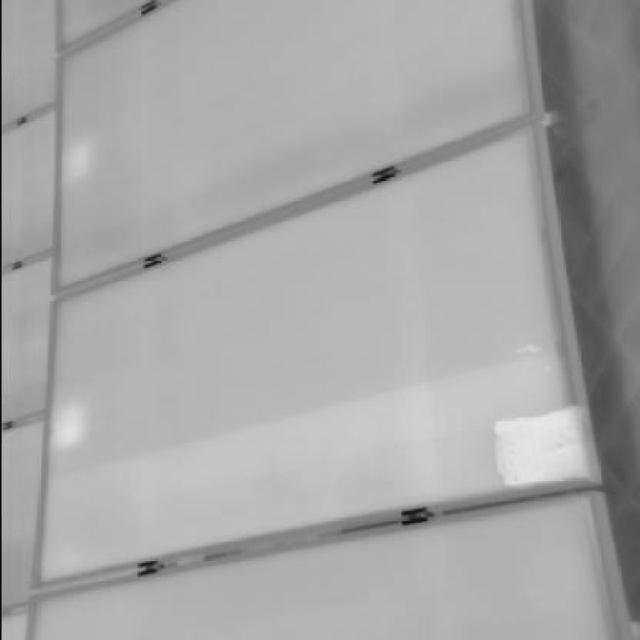hotspot: (489, 406, 588, 492)
